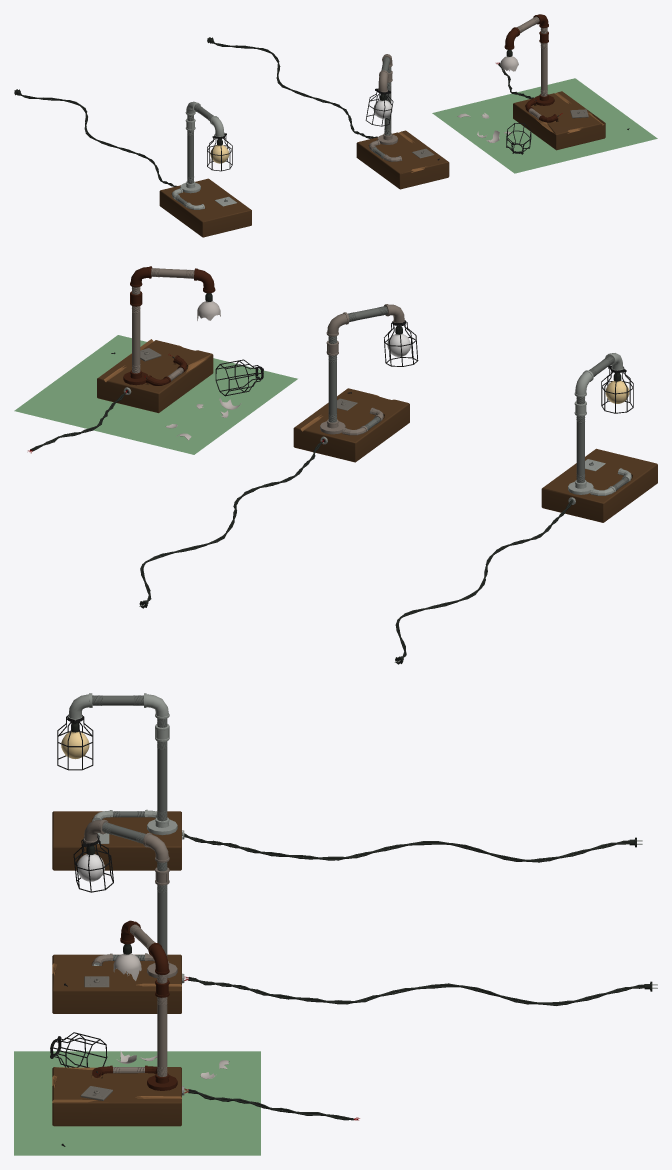
The model's file is steampunk lamp.fbx.
3 renders of one model, top to bottom at view 1: azimuth 30°, elevation 25°; view 2: azimuth 150°, elevation 25°; view 3: azimuth 270°, elevation 25°, orthographic. The views are drawn at different scales.
Visible parts, largest first — view 1: pPlane1, pCube5, pCube3, pCube8, polySurface4, pHelix15, polySurface1, pCylinder53, pCylinder47, pCylinder34; view 2: pPlane1, pCube3, pCube5, pCube8, pHelix15, polySurface4, polySurface1, pCylinder53, pCylinder47, polySurface7; view 3: pPlane1, pCube8, pCube5, pCube3, pHelix15, polySurface4, polySurface1, pCylinder53, pCylinder47, polySurface7.
Boxes of the visible parts, x1=… form: pPlane1: x1=432, y1=78, x2=657, y2=173; pCube5: x1=356, y1=130, x2=449, y2=189; pCube3: x1=159, y1=178, x2=251, y2=237; pCube8: x1=513, y1=91, x2=605, y2=150; polySurface4: x1=500, y1=14, x2=554, y2=105; pHelix15: x1=365, y1=54, x2=393, y2=140; polySurface1: x1=185, y1=101, x2=224, y2=188; pCylinder53: x1=207, y1=37, x2=377, y2=138; pCylinder47: x1=14, y1=89, x2=176, y2=186; pCylinder34: x1=207, y1=135, x2=232, y2=171; pPlane1: x1=14, y1=335, x2=297, y2=454; pCube3: x1=541, y1=448, x2=657, y2=522; pCube5: x1=293, y1=388, x2=409, y2=462; pCube8: x1=97, y1=339, x2=213, y2=413; pHelix15: x1=326, y1=304, x2=418, y2=428; polySurface4: x1=123, y1=266, x2=220, y2=385; polySurface1: x1=574, y1=353, x2=623, y2=488; pCylinder53: x1=139, y1=441, x2=322, y2=608; pCylinder47: x1=394, y1=500, x2=572, y2=664; polySurface7: x1=215, y1=359, x2=263, y2=396; pPlane1: x1=14, y1=1051, x2=260, y2=1155; pCube8: x1=52, y1=1067, x2=181, y2=1126; pCube5: x1=52, y1=954, x2=181, y2=1013; pCube3: x1=52, y1=811, x2=181, y2=870; pHelix15: x1=73, y1=819, x2=169, y2=968; polySurface4: x1=113, y1=920, x2=177, y2=1090; polySurface1: x1=68, y1=693, x2=169, y2=827; pCylinder53: x1=188, y1=977, x2=657, y2=1005; pCylinder47: x1=182, y1=832, x2=642, y2=862; polySurface7: x1=50, y1=1032, x2=107, y2=1067.
Bounding box in the file's own units: 20.78 × 4.97 × 17.55.
